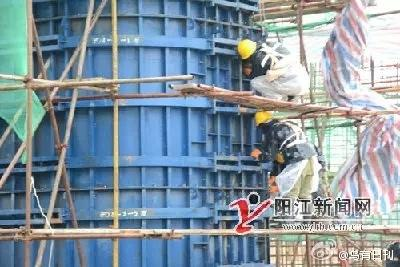helmet: (236, 39, 259, 59), (253, 108, 273, 127)
